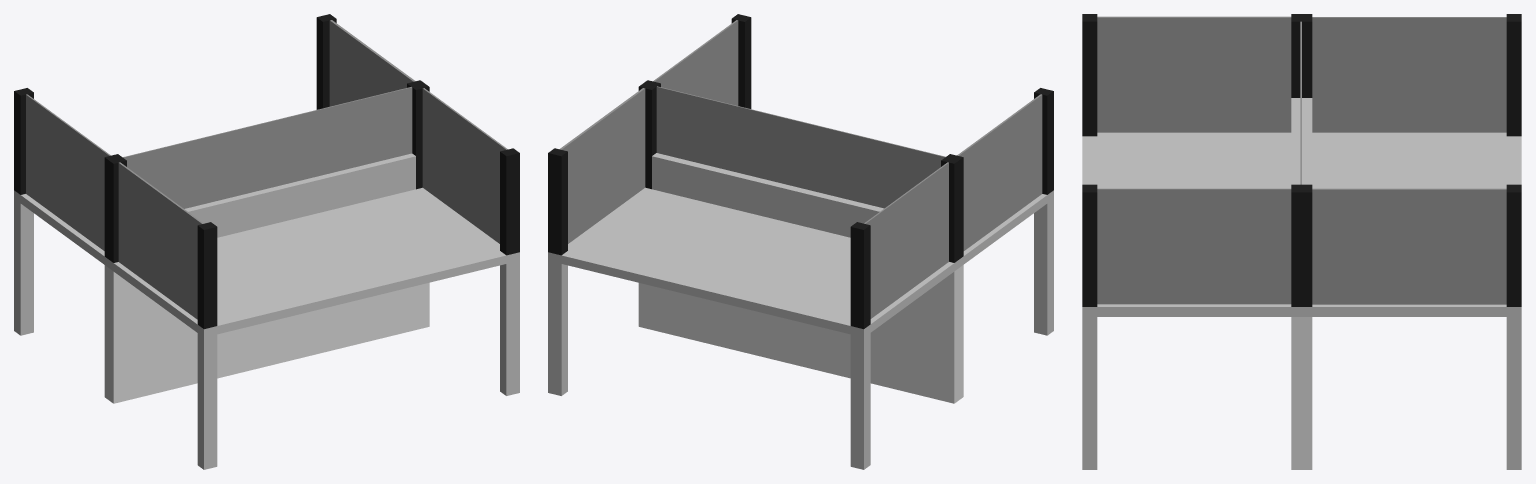
Rendered from stół.fbx.
3 views of the same model, side by side, from view 1: azimuth 30°, elevation 25°; view 2: azimuth 150°, elevation 25°; view 3: azimuth 270°, elevation 25° (orthographic). The views are drawn at different scales.
Parts seen in each view (by area): view 1: Szkło, Stół, Główna_noga, Belki, Nogi; view 2: Szkło, Stół, Główna_noga, Belki, Nogi; view 3: Szkło, Stół, Belki, Nogi, Główna_noga.
Boxes of the visible parts, x1,y1,x2,y2 form: Szkło: [26, 20, 507, 319]; Stół: [14, 153, 519, 337]; Główna_noga: [104, 265, 429, 403]; Belki: [14, 14, 519, 329]; Nogi: [14, 199, 519, 469]; Szkło: [559, 20, 1042, 318]; Stół: [548, 153, 1053, 337]; Główna_noga: [638, 265, 963, 403]; Belki: [548, 14, 1053, 329]; Nogi: [548, 199, 1053, 469]; Szkło: [1097, 16, 1506, 304]; Stół: [1082, 98, 1521, 316]; Belki: [1082, 14, 1521, 306]; Nogi: [1082, 317, 1521, 469]; Główna_noga: [1291, 317, 1312, 469].
Bounding box in the file's own units: 999 × 725 × 1041.
